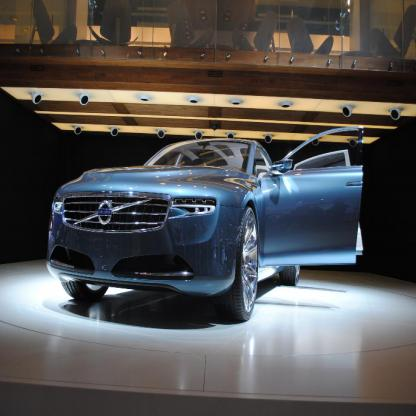Car: (46, 128, 364, 322)
